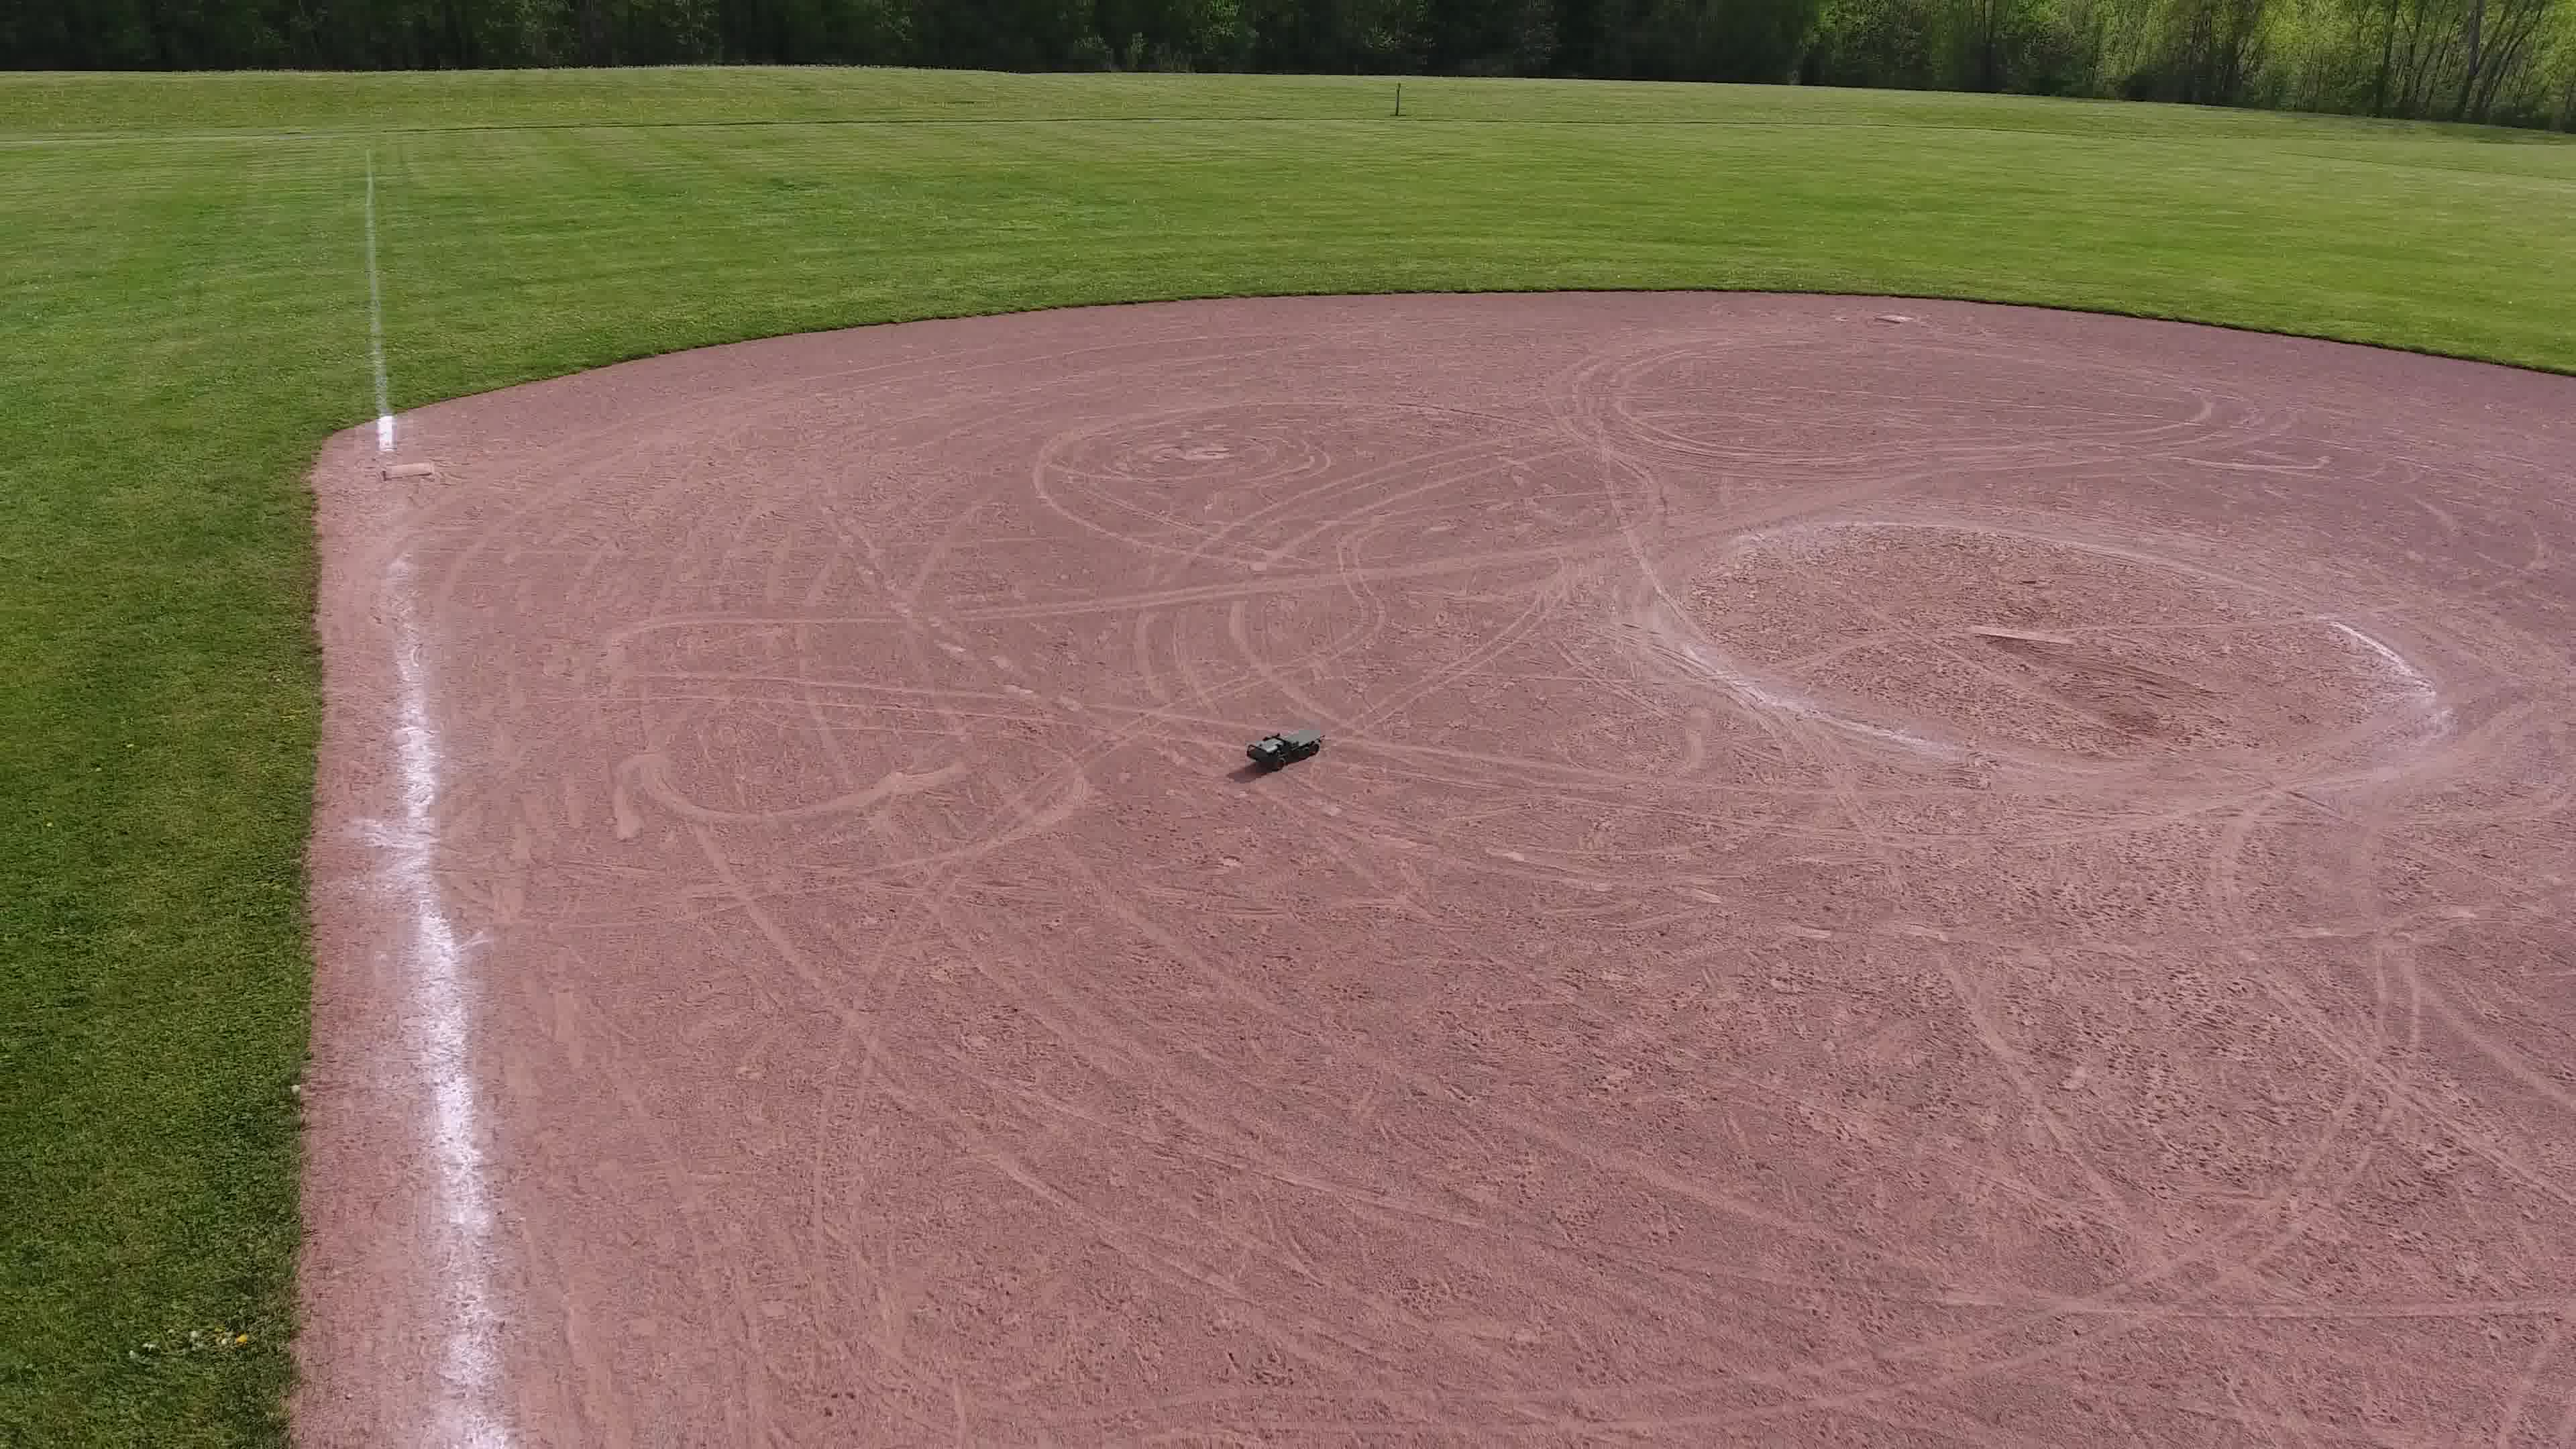transporter9: (1244, 724, 1327, 771)
